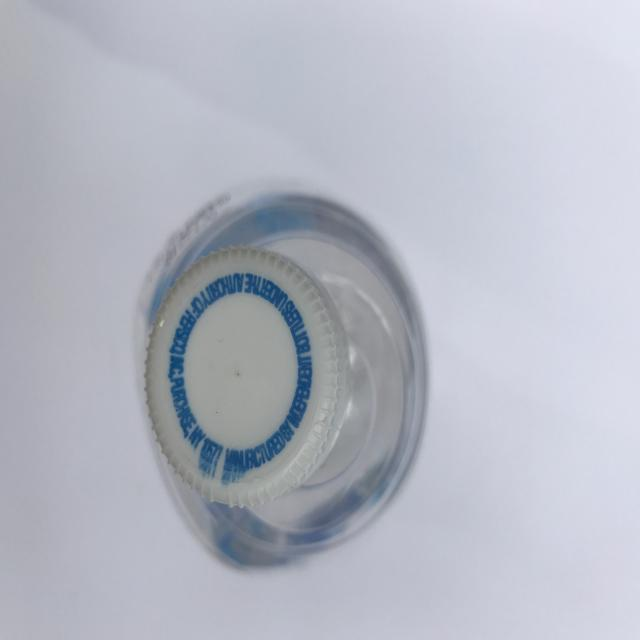plastic: (138, 186, 429, 570)
